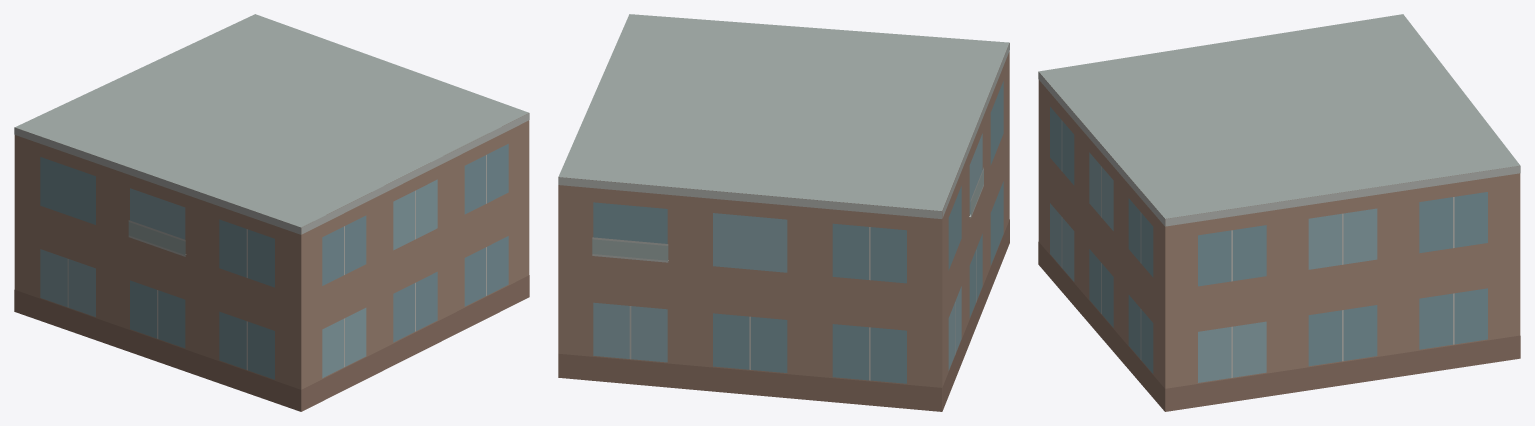
File: survey-upis-32777379.glb
3 views of the same model, side by side, from view 1: azimuth 30°, elevation 25°; view 2: azimuth 150°, elevation 25°; view 3: azimuth 270°, elevation 25° (orthographic). The views are drawn at different scales.
Parts seen in each view (by area): view 1: survey-upis-32777379.tmp; view 2: survey-upis-32777379.tmp; view 3: survey-upis-32777379.tmp.
Boxes of the visible parts, bbox=[...] form: survey-upis-32777379.tmp: bbox=[14, 14, 529, 411]; survey-upis-32777379.tmp: bbox=[558, 14, 1009, 411]; survey-upis-32777379.tmp: bbox=[1038, 14, 1520, 411].
Size of the model in its own units: 13.9 by 6.1 by 13.82.
